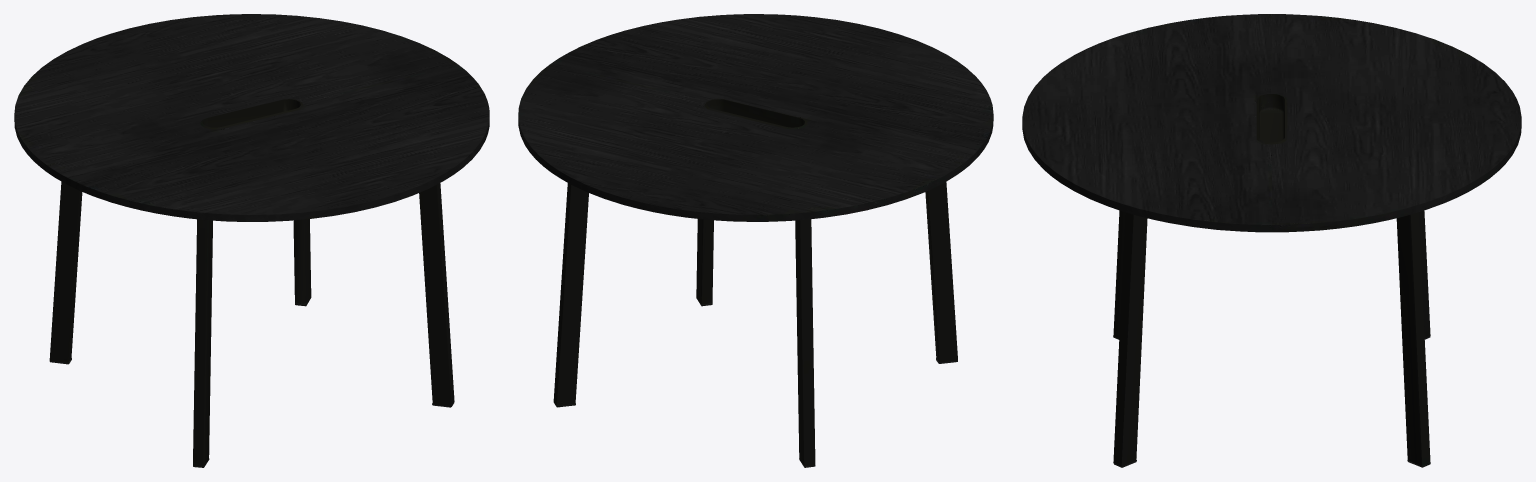
File: 114 - MITTZON - 會議桌, 圓形 黑色實木貼皮 梣木黑色, 120x75 公分 IKEA 線上購物.glb
The picture shows the model from 3 angles, left to right: view 1: azimuth 30°, elevation 25°; view 2: azimuth 150°, elevation 25°; view 3: azimuth 270°, elevation 25°; orthographic projection. The views are drawn at different scales.
Parts seen in each view (by area): view 1: Mesh_1.001, Mesh_0.001; view 2: Mesh_1.001, Mesh_0.001; view 3: Mesh_1.001, Mesh_0.001.
Part boxes in pixels (x1=…): Mesh_1.001: x1=14, y1=14, x2=489, y2=221; Mesh_0.001: x1=49, y1=181, x2=454, y2=467; Mesh_1.001: x1=518, y1=14, x2=993, y2=221; Mesh_0.001: x1=553, y1=182, x2=957, y2=467; Mesh_1.001: x1=1022, y1=14, x2=1521, y2=232; Mesh_0.001: x1=1113, y1=210, x2=1430, y2=467.
Size of the model in its own units: 1.2 by 0.7497 by 1.2.
Materials: 2 (2 with a texture image).
